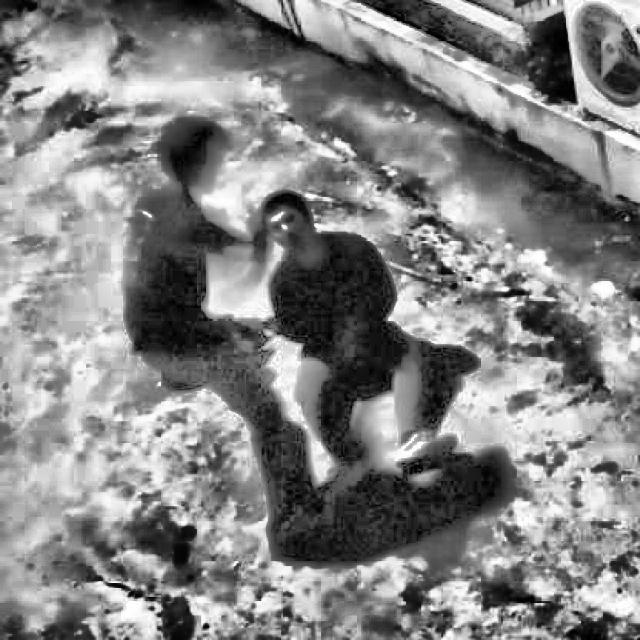robbery: (114, 102, 520, 583)
